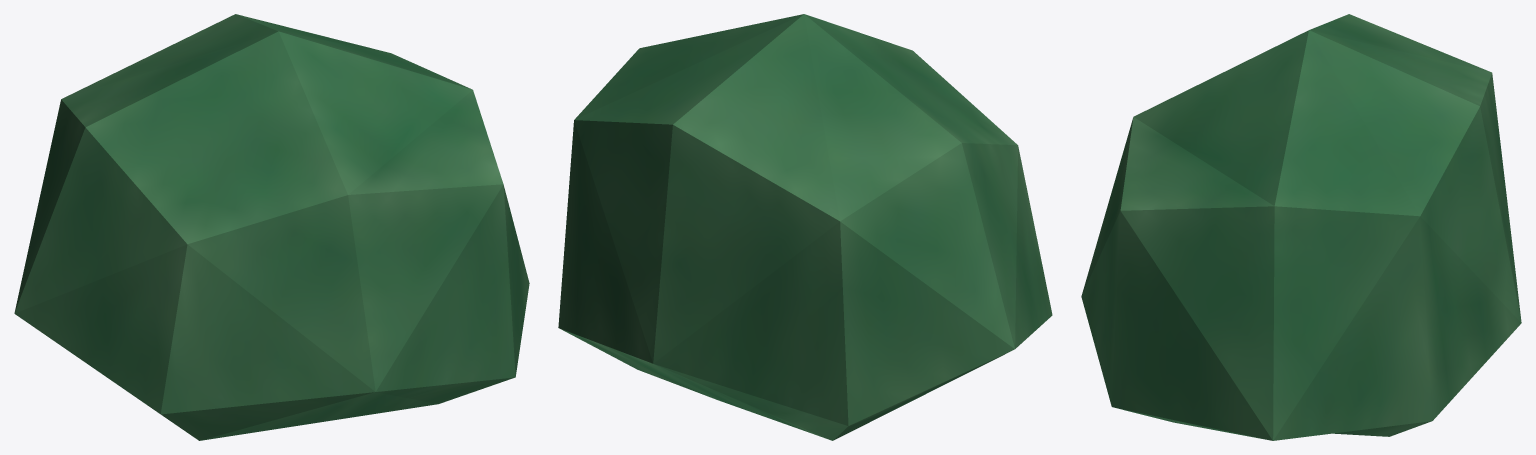
File: GJ_Decor_Exterior_Bush_01.fbx
3 renders of one model, left to right at view 1: azimuth 30°, elevation 25°; view 2: azimuth 150°, elevation 25°; view 3: azimuth 270°, elevation 25°, orthographic. The views are drawn at different scales.
Visible parts, largest first — view 1: GJ_Decor_Exterior_Bush_01; view 2: GJ_Decor_Exterior_Bush_01; view 3: GJ_Decor_Exterior_Bush_01.
Part boxes in pixels (x1,y1,x2,y2): GJ_Decor_Exterior_Bush_01: (14, 14, 529, 440); GJ_Decor_Exterior_Bush_01: (558, 14, 1052, 440); GJ_Decor_Exterior_Bush_01: (1081, 14, 1521, 440).
Size of the model in its own units: 2.35 by 1.66 by 1.91.
Materials: 1 (1 with a texture image).
